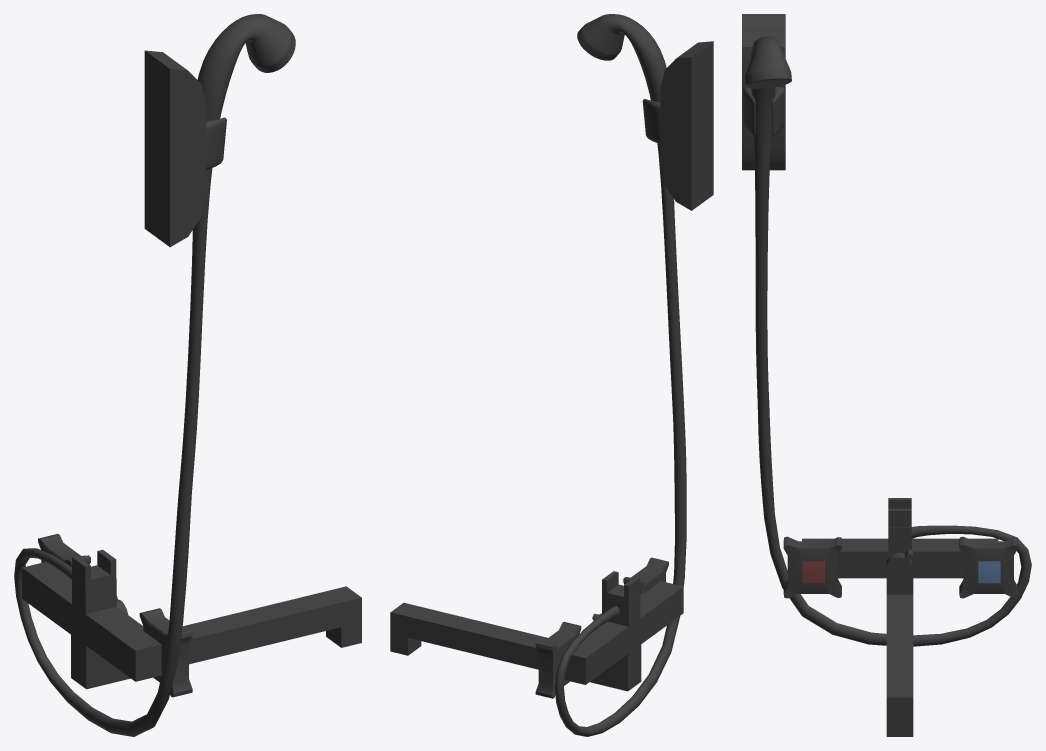
File: shower.fbx
3 renders of one model, left to right at view 1: azimuth 30°, elevation 25°; view 2: azimuth 150°, elevation 25°; view 3: azimuth 270°, elevation 25°, orthographic. The views are drawn at different scales.
Parts seen in each view (by area): view 1: polySurface6, polySurface8, polySurface9, polySurface12, polySurface13, polySurface10, polySurface11; view 2: polySurface6, polySurface8, polySurface9, polySurface11, polySurface13, polySurface12, polySurface10; view 3: polySurface8, polySurface6, polySurface12, polySurface11, polySurface9, polySurface10, polySurface7, polySurface13.
Part boxes in pixels (left/top/right/bottom): polySurface6: left=22, top=562, right=361, bottom=689; polySurface8: left=14, top=14, right=295, bottom=736; polySurface9: left=144, top=50, right=206, bottom=247; polySurface12: left=139, top=608, right=192, bottom=697; polySurface13: left=72, top=549, right=116, bottom=585; polySurface10: left=206, top=117, right=226, bottom=169; polySurface11: left=38, top=534, right=90, bottom=567; polySurface6: left=390, top=581, right=683, bottom=691; polySurface8: left=555, top=14, right=686, bottom=736; polySurface9: left=660, top=41, right=713, bottom=210; polySurface11: left=535, top=621, right=581, bottom=698; polySurface13: left=602, top=571, right=640, bottom=601; polySurface12: left=623, top=557, right=668, bottom=593; polySurface10: left=642, top=99, right=660, bottom=143; polySurface8: left=744, top=36, right=1031, bottom=646; polySurface6: left=802, top=527, right=998, bottom=736; polySurface12: left=783, top=536, right=841, bottom=598; polySurface11: left=959, top=536, right=1017, bottom=598; polySurface9: left=742, top=14, right=785, bottom=170; polySurface10: left=743, top=87, right=784, bottom=136; polySurface7: left=885, top=549, right=912, bottom=581; polySurface13: left=888, top=498, right=911, bottom=526.
Bounding box in the file's own units: 4.18 × 10.77 × 4.41.
